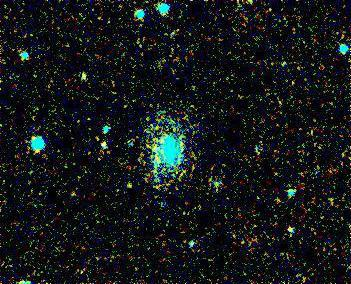star: (115, 172, 145, 202)
